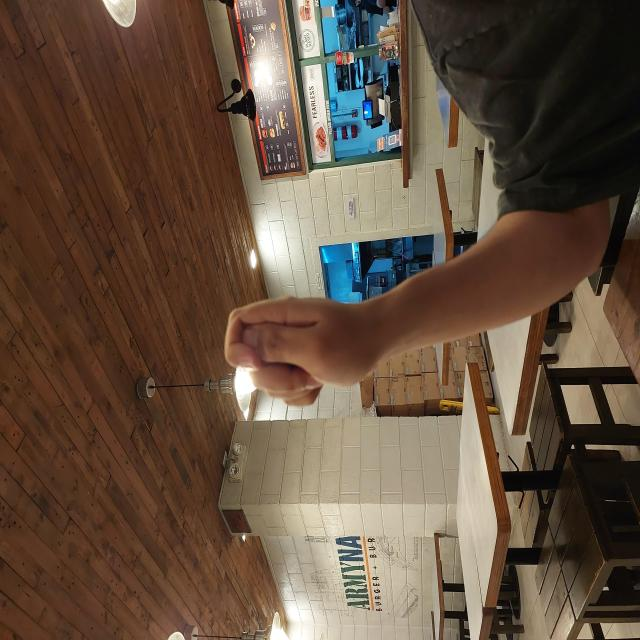T: (233, 223, 348, 382)
